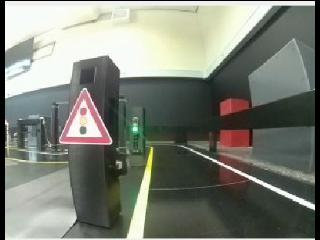traffic_light: (60, 90, 111, 146)
